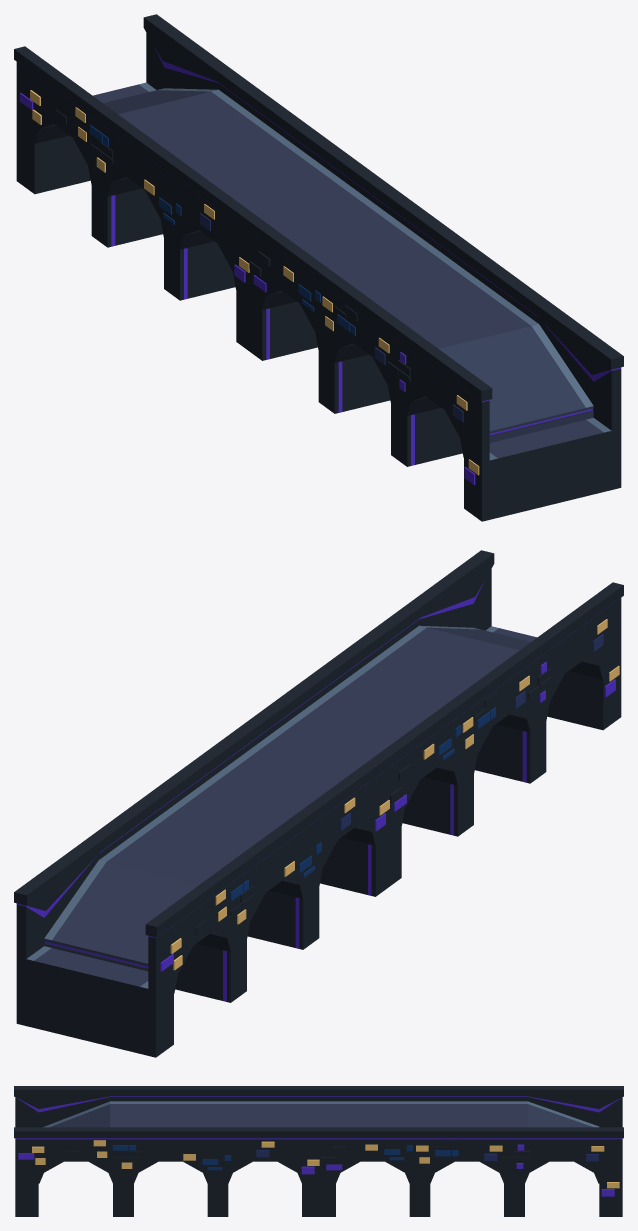
File: Building_Bridge01.fbx
3 renders of one model, top to bottom at view 1: azimuth 30°, elevation 25°; view 2: azimuth 150°, elevation 25°; view 3: azimuth 270°, elevation 25°, orthographic. The views are drawn at different scales.
Parts seen in each view (by area): view 1: Cube.853; view 2: Cube.853; view 3: Cube.853.
Part boxes in pixels (box(x1,y1,x2,y2)): Cube.853: box(14, 14, 623, 521); Cube.853: box(14, 550, 623, 1057); Cube.853: box(14, 1086, 623, 1216).
Size of the model in its own units: 459 by 405 by 2603.
